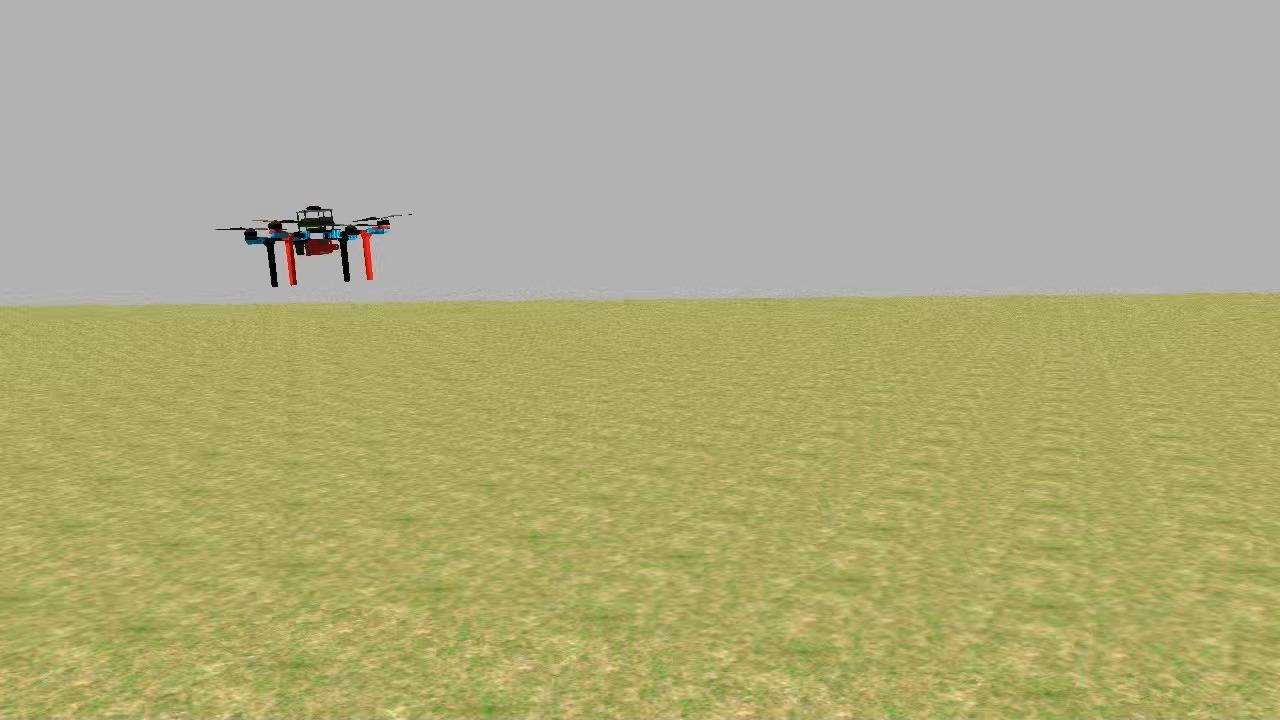UAV: (236, 198, 396, 296)
